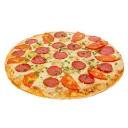pepperonipizza: (6, 32, 124, 97)
